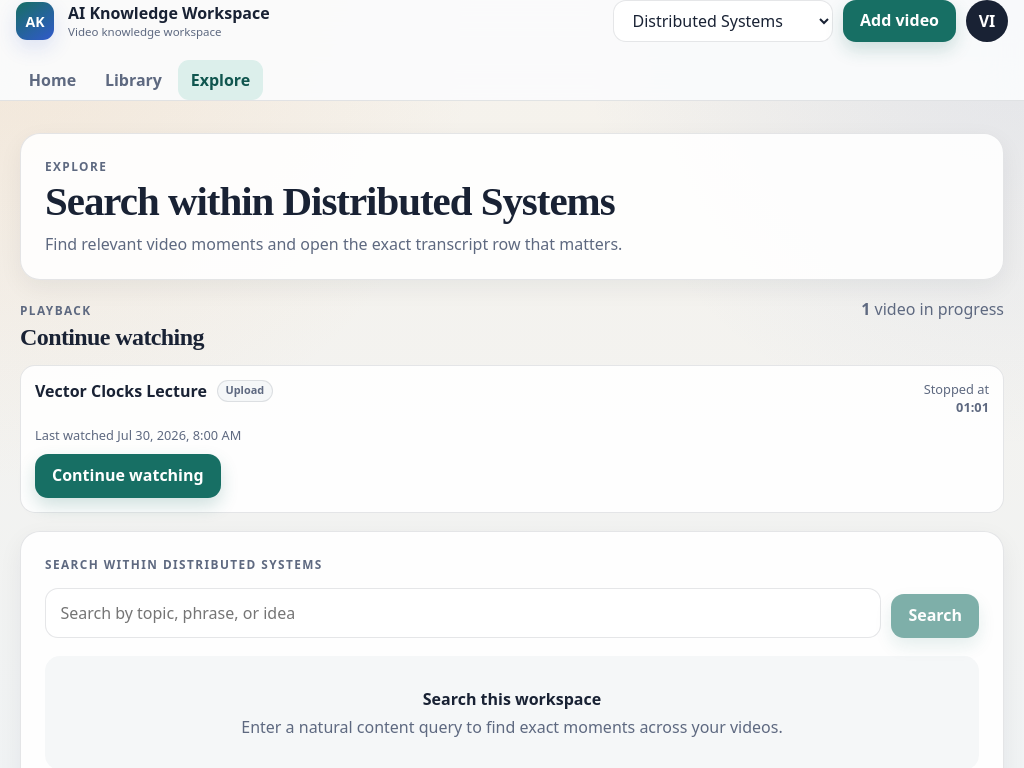
it: continue watching in Explore › leaves search and Saved moments untouched on the same surface
expect the element named "Continue watching in Distributed Systems" is shown: met, box [20, 298, 1004, 513]
Step 1. Type "vector clocks" into the search field labelled "Search within Distributed Systems" → (463, 613), box [45, 588, 881, 638]
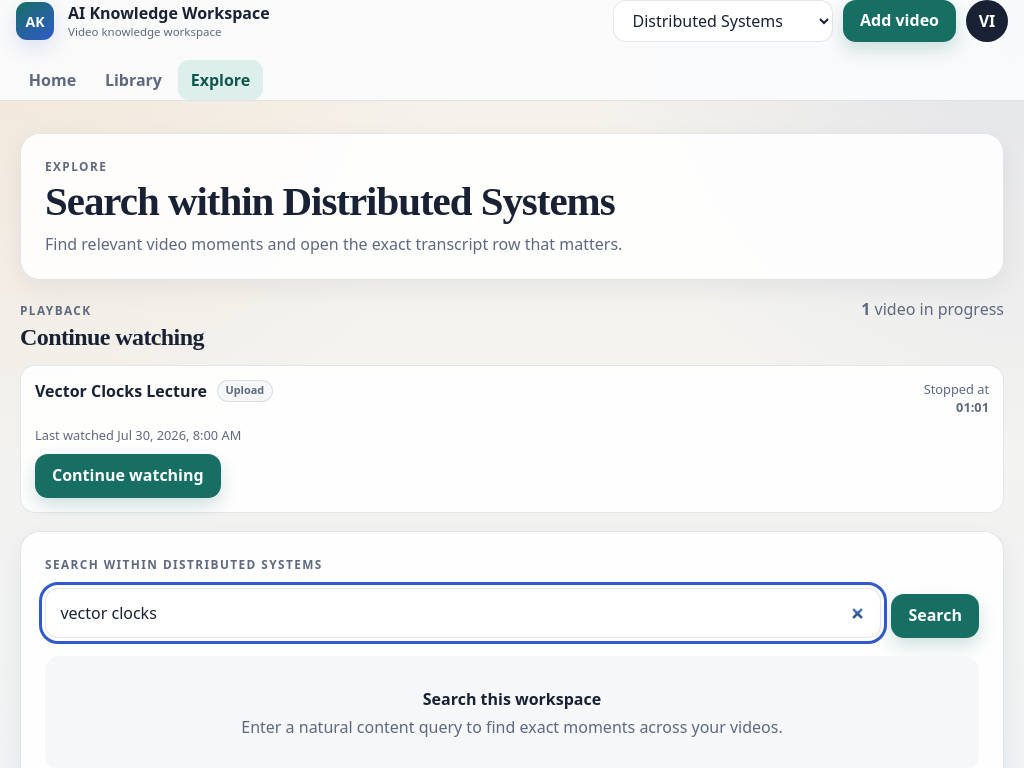
Step 2. Press Enter
(page scrolled)
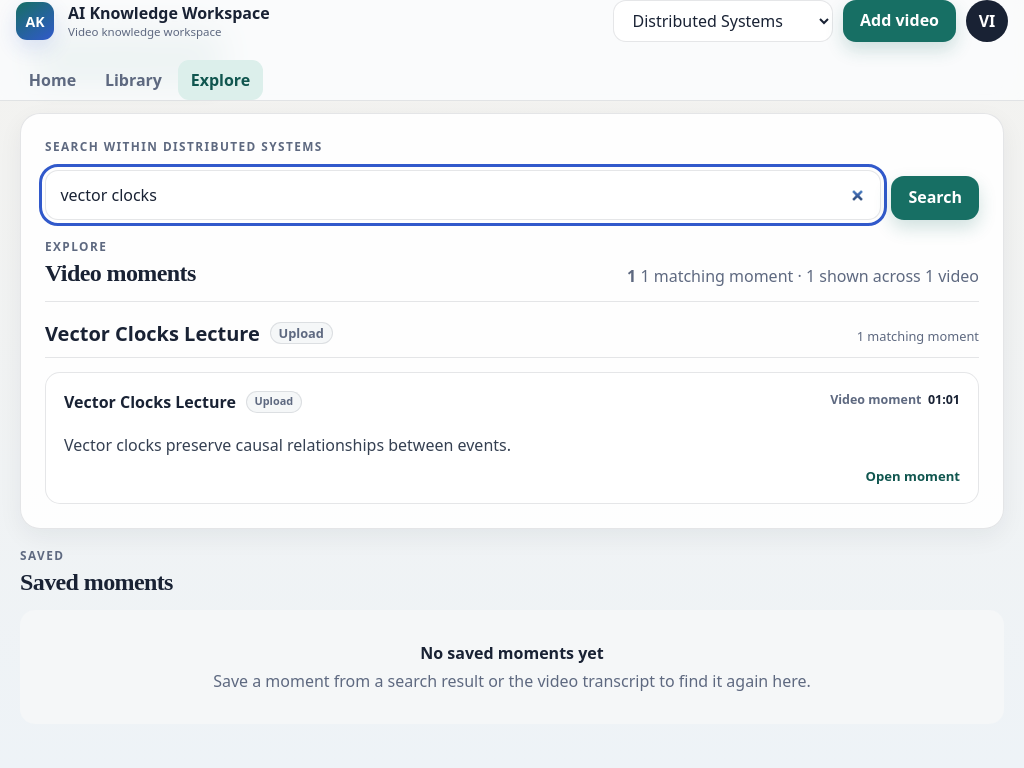
expect the heading "Saved moments" is shown: met, box [20, 569, 173, 596]
expect the button with aria-label "Open moment in Vector Clocks Lecture at 01:01" is shown: met, box [46, 373, 978, 503]
